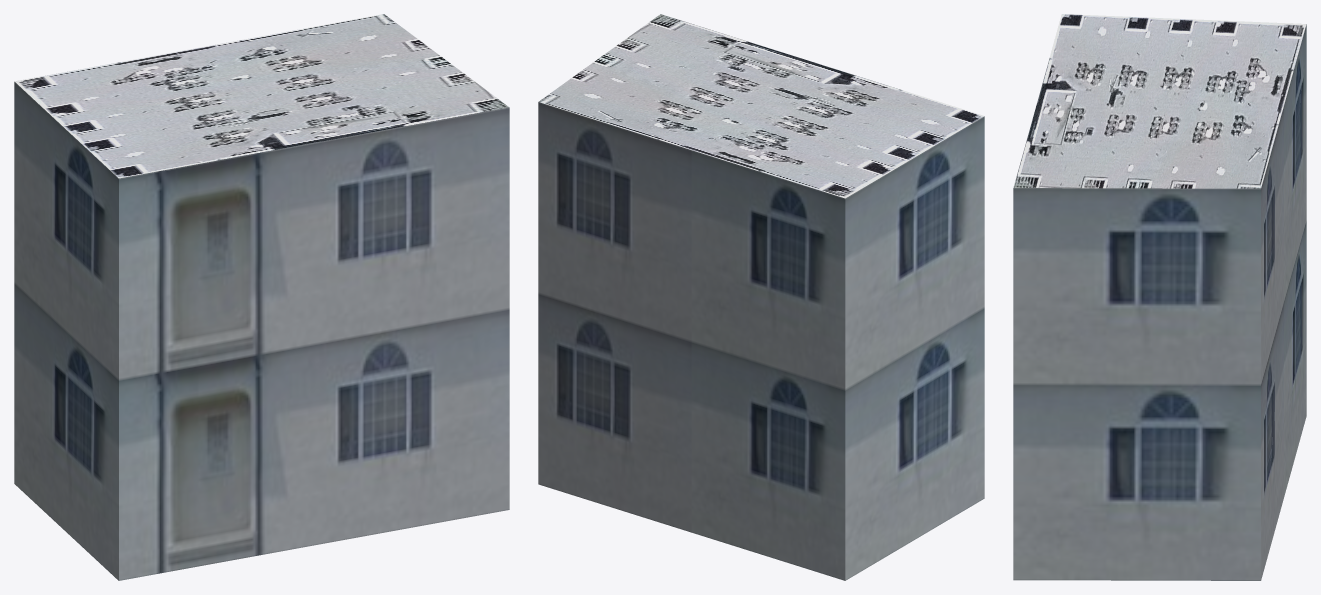
File: ResTex__3516.fbx
3 renders of one model, left to right at view 1: azimuth 30°, elevation 25°; view 2: azimuth 150°, elevation 25°; view 3: azimuth 270°, elevation 25°, orthographic. The views are drawn at different scales.
Visible parts, largest first — view 1: CityEngineMaterial_17_m, CityEngineMaterial_2_m; view 2: CityEngineMaterial_17_m, CityEngineMaterial_2_m; view 3: CityEngineMaterial_17_m, CityEngineMaterial_2_m.
Boxes of the visible parts, x1,y1,x2,y2 form: CityEngineMaterial_17_m: (14,82,509,580); CityEngineMaterial_2_m: (14,14,509,178); CityEngineMaterial_17_m: (538,102,984,580); CityEngineMaterial_2_m: (538,14,984,198); CityEngineMaterial_17_m: (1013,24,1306,580); CityEngineMaterial_2_m: (1013,14,1306,188).
Size of the model in its own units: 5.74 by 6 by 4.07.
Materials: 2 (2 with a texture image).
